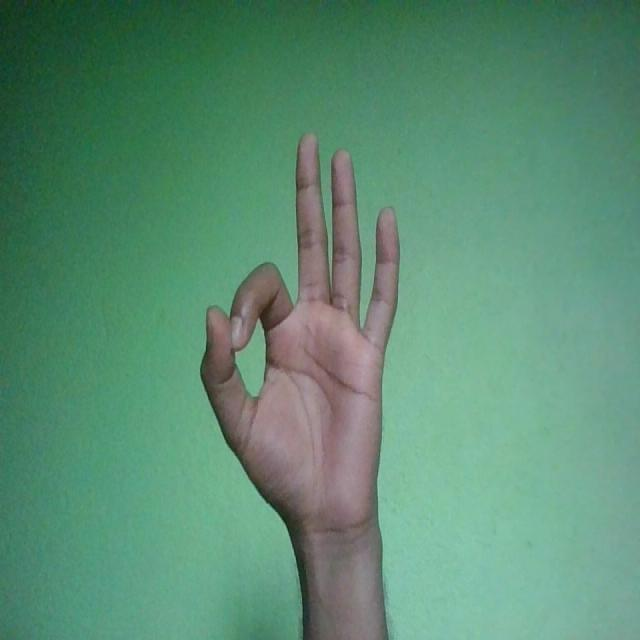Rock On: (198, 130, 400, 541)
